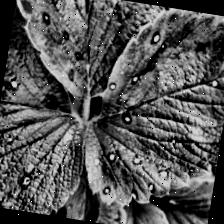Leaf Spot: (74, 0, 224, 221), (0, 1, 108, 219), (2, 0, 176, 114), (64, 168, 108, 224)
